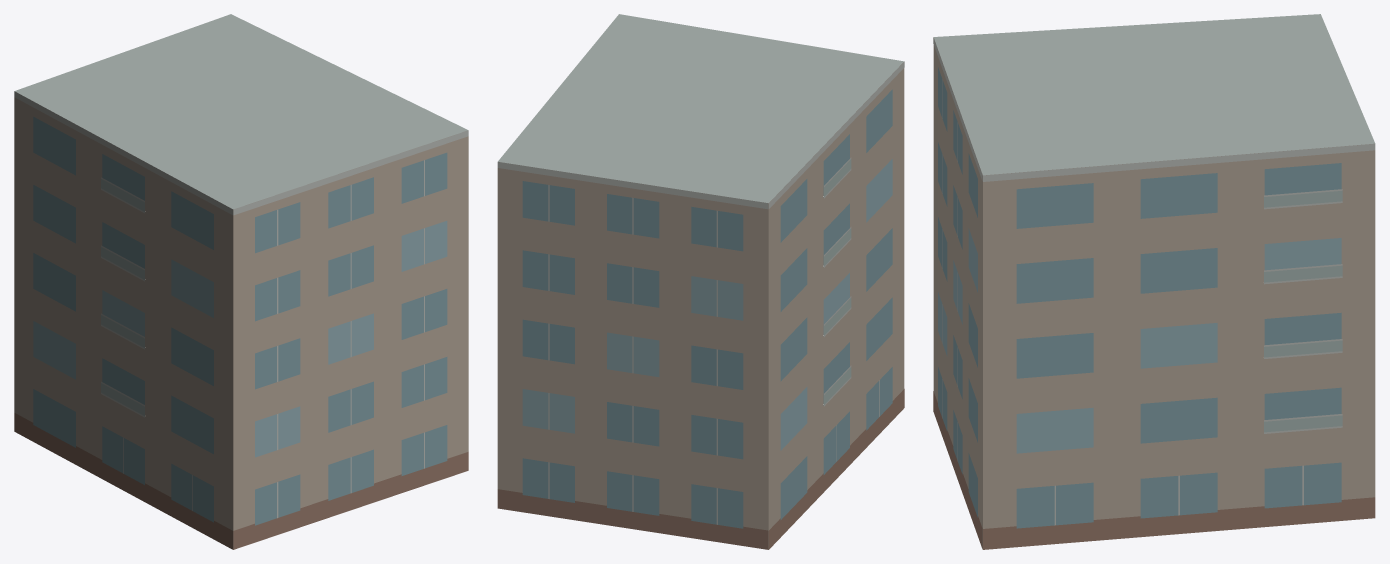
Rendered from survey-upis-32746704.glb.
3 views of the same model, side by side, from view 1: azimuth 30°, elevation 25°; view 2: azimuth 150°, elevation 25°; view 3: azimuth 270°, elevation 25° (orthographic). The views are drawn at different scales.
Parts seen in each view (by area): view 1: survey-upis-32746704.tmp; view 2: survey-upis-32746704.tmp; view 3: survey-upis-32746704.tmp.
Boxes of the visible parts, x1,y1,x2,y2 form: survey-upis-32746704.tmp: (14,14,468,549); survey-upis-32746704.tmp: (497,14,904,549); survey-upis-32746704.tmp: (933,14,1375,549).
Bounding box in the file's own units: 12.67 × 13.7 × 14.66.
